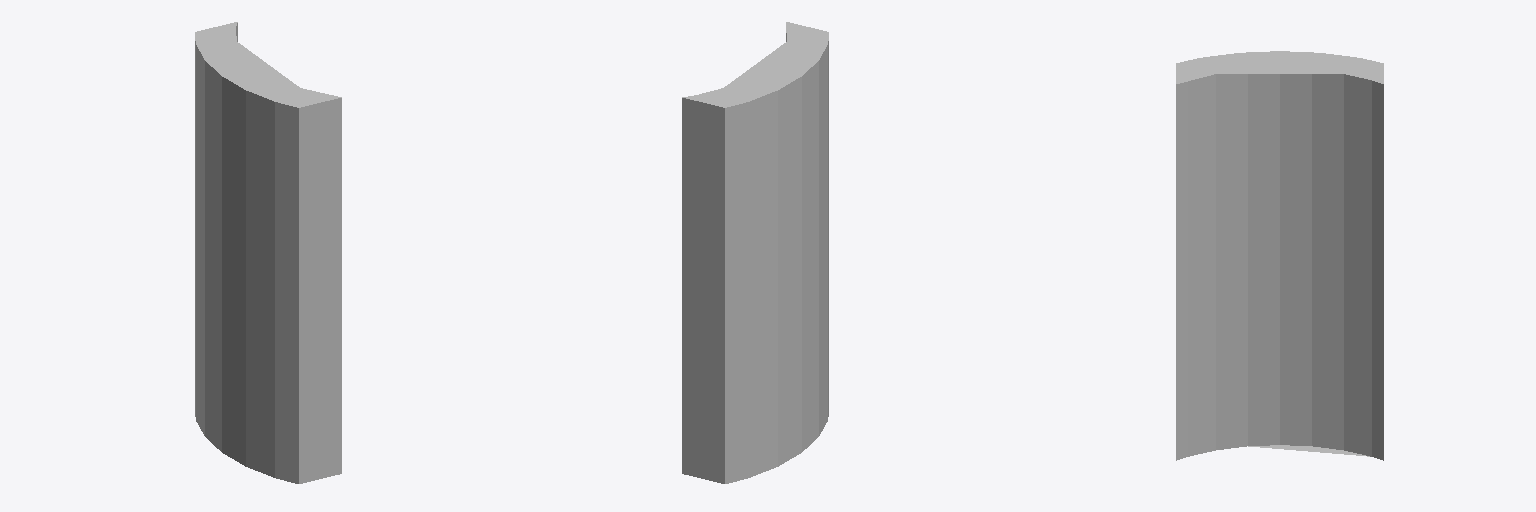
File: platform_moving.obj
The picture shows the model from 3 angles: view 1: azimuth 30°, elevation 25°; view 2: azimuth 150°, elevation 25°; view 3: azimuth 270°, elevation 25°; orthographic projection.
Visible parts, largest first — view 1: Cylinder.002; view 2: Cylinder.002; view 3: Cylinder.002.
Part boxes in pixels (x1,y1,x2,y2): Cylinder.002: (195,22,341,483); Cylinder.002: (682,22,828,483); Cylinder.002: (1176,51,1383,460).
Bounding box in the file's own units: 0.3804 × 2 × 1.